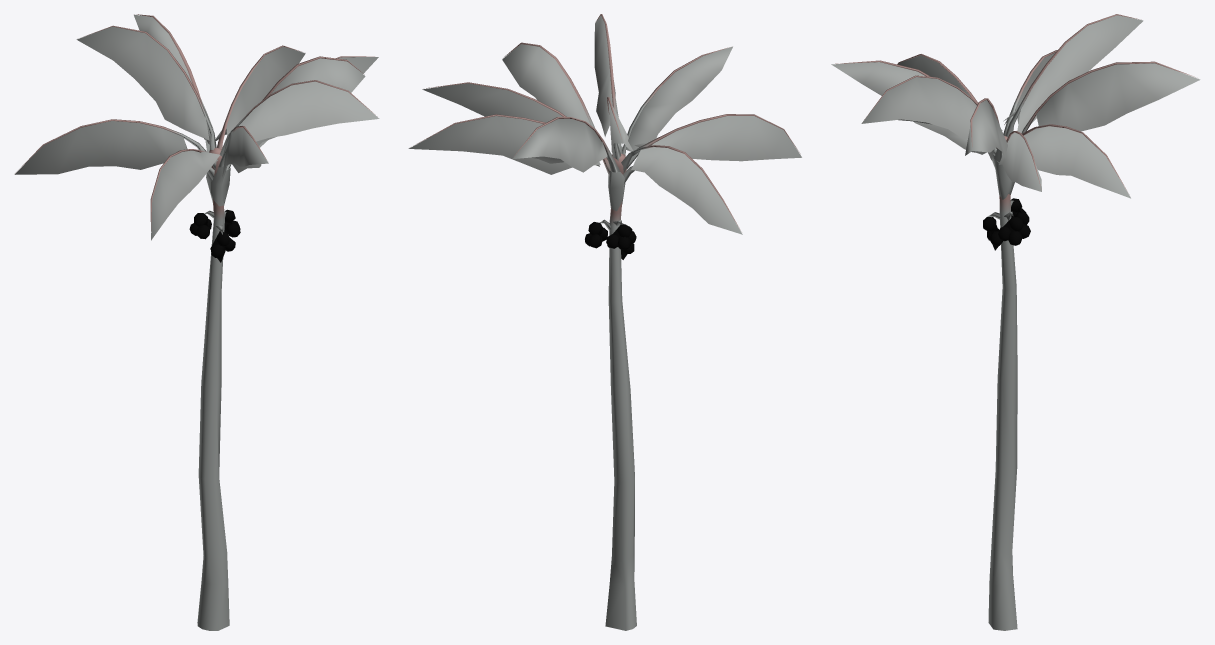
3 renders of one model, left to right at view 1: azimuth 30°, elevation 25°; view 2: azimuth 150°, elevation 25°; view 3: azimuth 270°, elevation 25°, orthographic. The views are drawn at different scales.
Parts seen in each view (by area): view 1: G:\FFXIV-MapTools\exports\y6f2\bg\ex5\02_ykt_y6\fld\y6f2\bgp (×4); view 2: G:\FFXIV-MapTools\exports\y6f2\bg\ex5\02_ykt_y6\fld\y6f2\bgp (×4); view 3: G:\FFXIV-MapTools\exports\y6f2\bg\ex5\02_ykt_y6\fld\y6f2\bgp (×4).
Boxes of the visible parts, left/top/right/bottom form: G:\FFXIV-MapTools\exports\y6f2\bg\ex5\02_ykt_y6\fld\y6f2\bgp (×4): left=14, top=14, right=379, bottom=630; G:\FFXIV-MapTools\exports\y6f2\bg\ex5\02_ykt_y6\fld\y6f2\bgp (×4): left=408, top=14, right=801, bottom=630; G:\FFXIV-MapTools\exports\y6f2\bg\ex5\02_ykt_y6\fld\y6f2\bgp (×4): left=831, top=14, right=1200, bottom=630.
Bounding box in the file's own units: 16.93 × 26.72 × 15.26.
